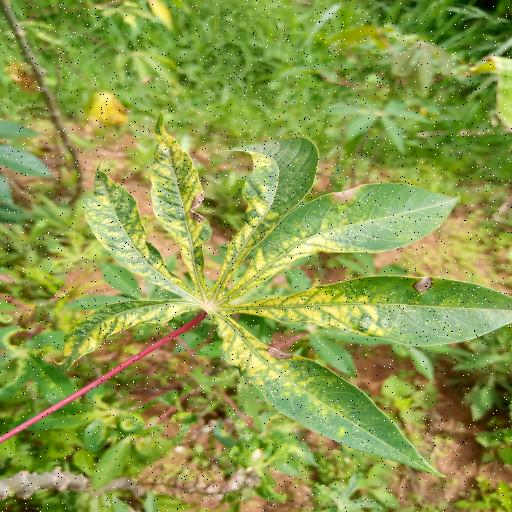Cassava_Brown_Leaf_Spot: (65, 116, 512, 474)
